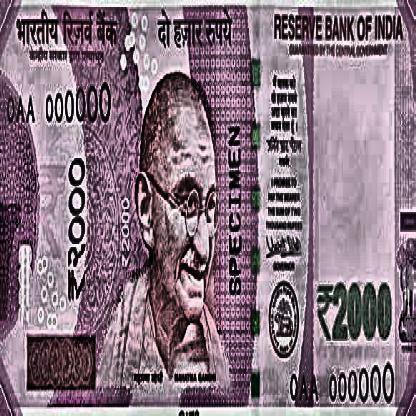Rs2000: (313, 269, 396, 349)
